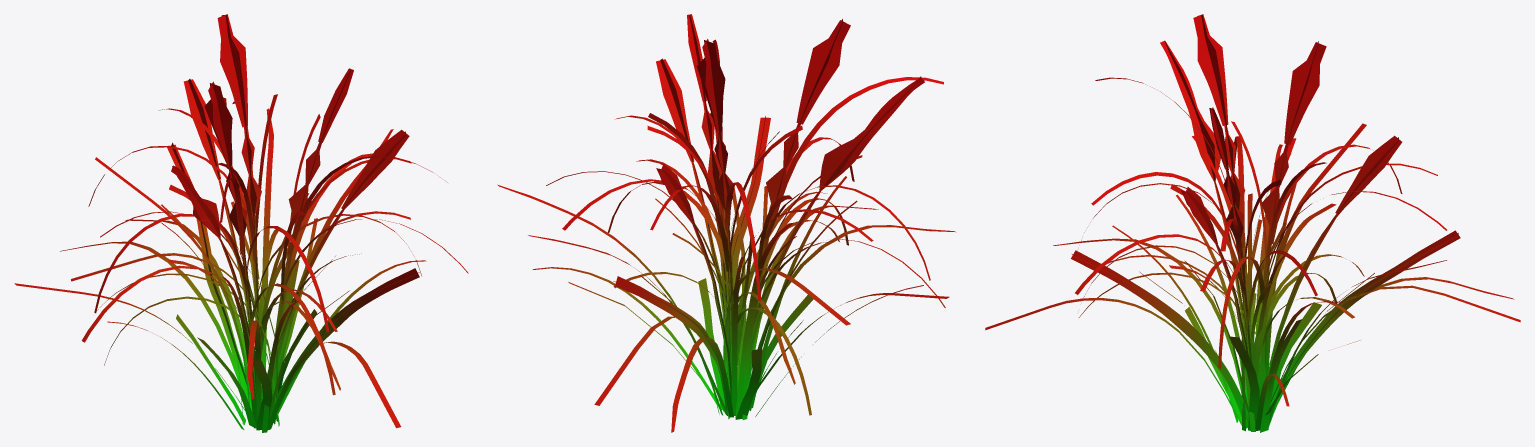
Rendered from Grass_B_Var1.FBX.
3 views of the same model, side by side, from view 1: azimuth 30°, elevation 25°; view 2: azimuth 150°, elevation 25°; view 3: azimuth 270°, elevation 25° (orthographic). The views are drawn at different scales.
Visible parts, largest first — view 1: Grass_B_Var1_LOD0; view 2: Grass_B_Var1_LOD0; view 3: Grass_B_Var1_LOD0.
Boxes of the visible parts, box(x1,y1,x2,y2) form: Grass_B_Var1_LOD0: box(14, 14, 468, 432); Grass_B_Var1_LOD0: box(497, 14, 956, 432); Grass_B_Var1_LOD0: box(985, 14, 1520, 432).
Size of what is drawn, in the model's own units: 70.1 by 63.83 by 80.78.
